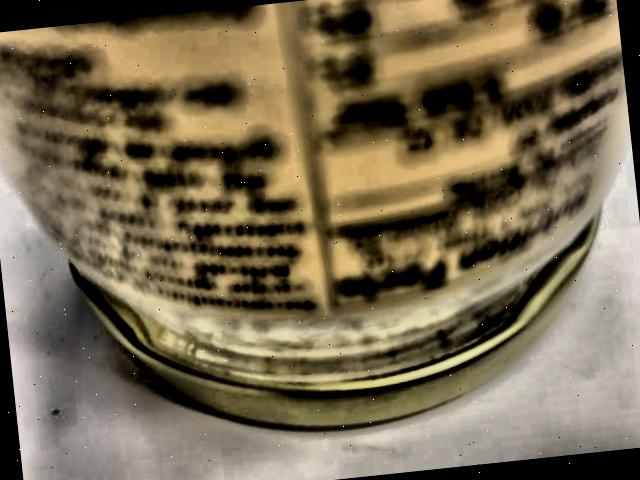Almennt: (0, 0, 640, 475)
